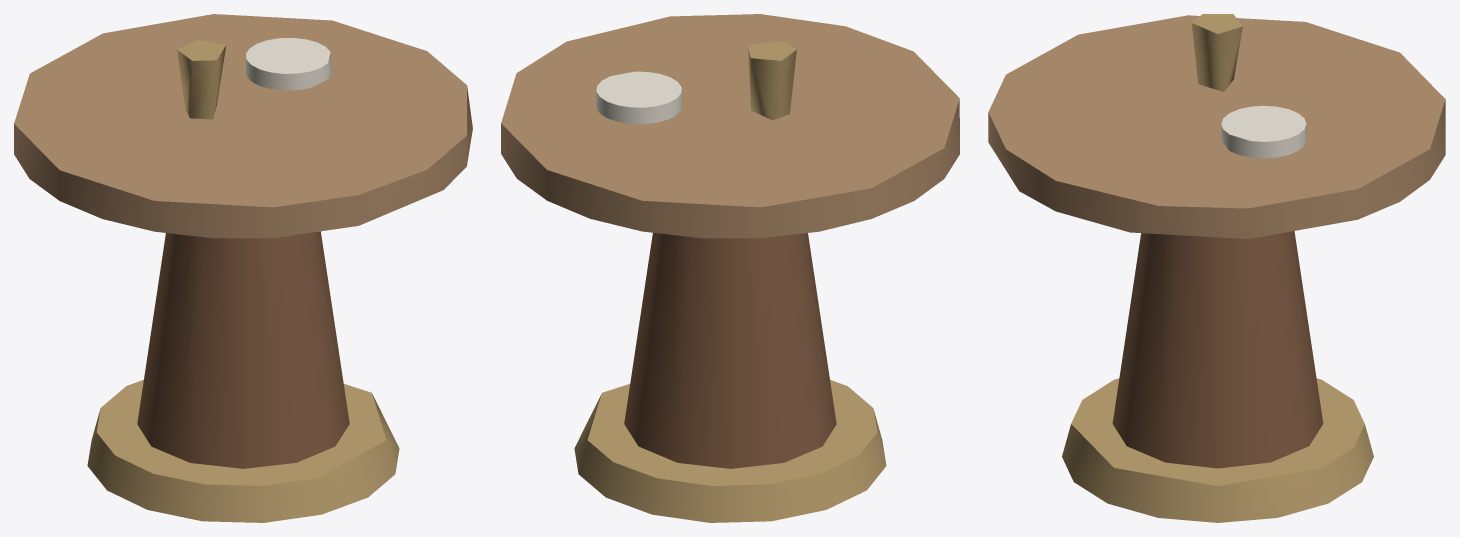
Rendered from table-4-3.lod.glb.
3 renders of one model, left to right at view 1: azimuth 30°, elevation 25°; view 2: azimuth 150°, elevation 25°; view 3: azimuth 270°, elevation 25°, orthographic.
Visible parts, largest first — view 1: part (×4); view 2: part (×4); view 3: part (×4).
Part boxes in pixels (<box>): part (×4): <box>14,14,472,522</box>; part (×4): <box>501,14,959,522</box>; part (×4): <box>988,14,1445,522</box>.
Size of the model in its own units: 1 by 1 by 1.
